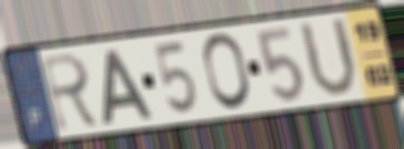5: (253, 23, 309, 104), (151, 39, 199, 116)
A: (101, 47, 156, 127)
O: (200, 30, 254, 113)
R: (38, 50, 104, 134)
U: (295, 15, 360, 102)
